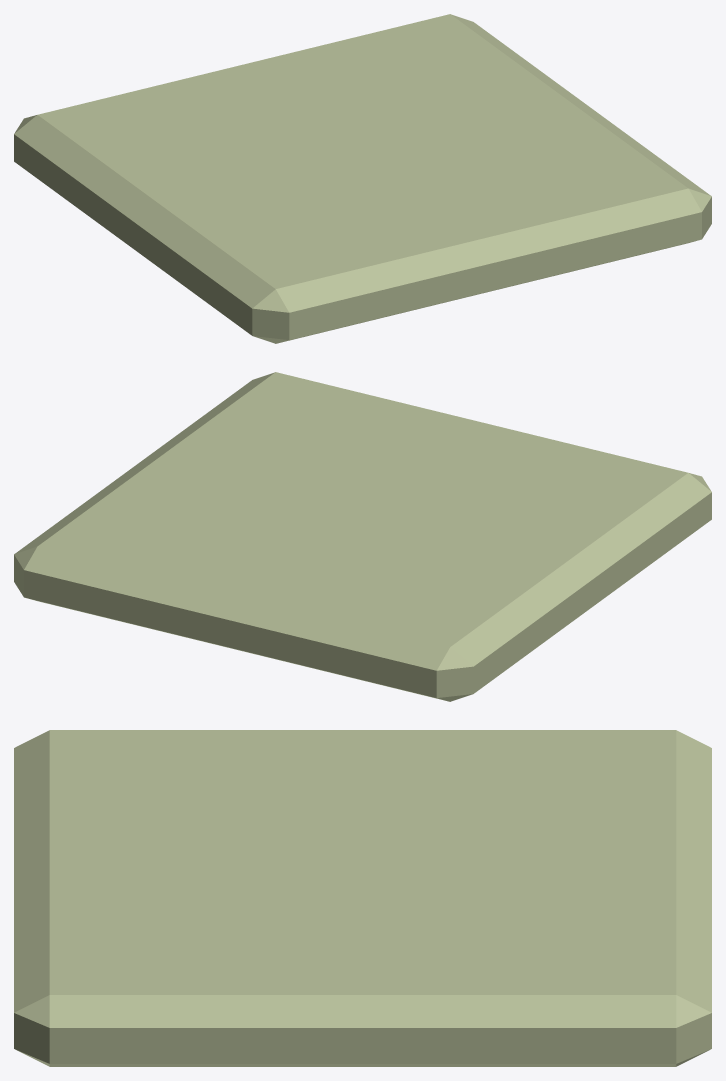
Rendered from Yogaroom_rug1.fbx.
3 renders of one model, top to bottom at view 1: azimuth 30°, elevation 25°; view 2: azimuth 150°, elevation 25°; view 3: azimuth 270°, elevation 25°, orthographic. The views are drawn at different scales.
Parts seen in each view (by area): view 1: Yogaroom_rug1; view 2: Yogaroom_rug1; view 3: Yogaroom_rug1.
Part boxes in pixels (bbox=[...]): Yogaroom_rug1: bbox=[14, 14, 711, 343]; Yogaroom_rug1: bbox=[14, 372, 711, 701]; Yogaroom_rug1: bbox=[14, 730, 711, 1066].
Size of the model in its own units: 125 by 14.23 by 125.
